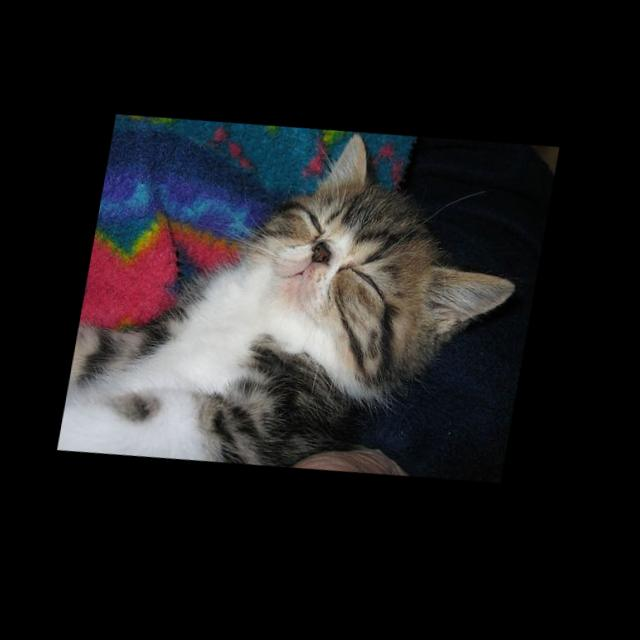animals: (291, 126, 539, 358)
